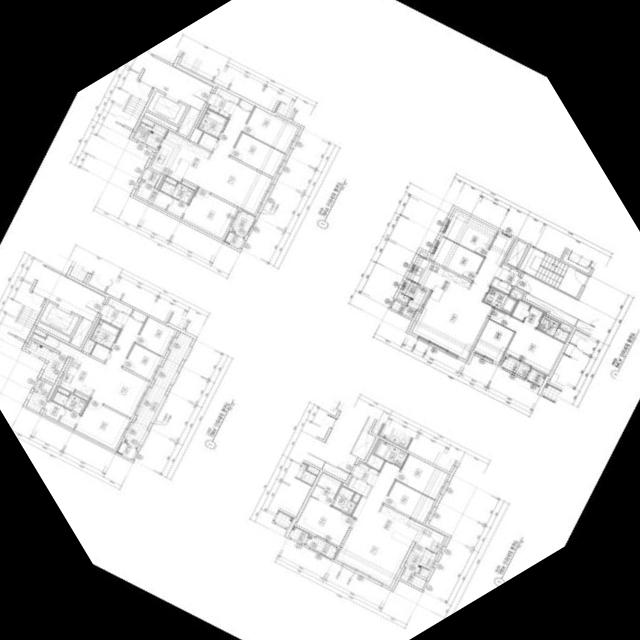background: (0, 0, 640, 640)
space_balconi: (124, 331, 193, 448), (24, 339, 67, 384), (404, 543, 436, 572), (134, 122, 167, 148), (402, 279, 430, 309), (305, 535, 337, 558), (231, 210, 255, 237), (501, 356, 530, 377)
space_bedroom: (489, 307, 564, 374), (74, 398, 130, 449), (296, 496, 353, 546), (182, 188, 237, 238), (243, 106, 298, 153), (443, 210, 497, 256), (396, 453, 448, 499), (230, 132, 284, 176), (431, 236, 483, 280), (384, 480, 434, 523), (135, 316, 175, 355), (123, 343, 161, 379)
space_dressroom: (136, 182, 187, 217), (311, 472, 342, 505), (44, 401, 80, 428), (511, 299, 543, 327)
space_elevator: (39, 301, 79, 335), (147, 90, 187, 124)
space_elevator_hall: (32, 266, 105, 321), (139, 55, 212, 110)
space_front: (99, 303, 129, 328), (206, 92, 236, 117), (351, 461, 379, 485), (494, 263, 519, 285)
space_kitchen: (32, 333, 104, 395), (374, 504, 445, 553), (150, 130, 210, 183), (409, 256, 471, 304)
space_living_room: (411, 231, 513, 358), (336, 460, 413, 586), (194, 104, 272, 214), (88, 315, 149, 417)
space_multipurpose_space: (473, 319, 514, 362)
space_other: (524, 292, 578, 326), (25, 378, 53, 412), (144, 110, 178, 131), (70, 316, 93, 347), (177, 106, 200, 136), (36, 321, 70, 341), (506, 239, 528, 266), (400, 567, 426, 589), (321, 461, 349, 480), (347, 476, 371, 496), (215, 86, 240, 104), (391, 300, 416, 318), (107, 297, 133, 314), (91, 342, 110, 361), (491, 277, 512, 294), (141, 168, 160, 186), (198, 132, 217, 150), (367, 453, 384, 470), (238, 98, 254, 111), (131, 309, 147, 322), (83, 338, 95, 353), (509, 288, 522, 299), (74, 391, 89, 400), (181, 180, 196, 189), (164, 175, 177, 185), (559, 323, 572, 332), (34, 328, 46, 337), (57, 386, 69, 395), (142, 117, 154, 126), (398, 293, 409, 302), (419, 567, 429, 576), (352, 492, 360, 502), (420, 251, 427, 257)
space_outdoor_room: (288, 525, 309, 543), (224, 231, 244, 249), (526, 368, 546, 385)
space_staircase: (519, 246, 587, 297)
space_toilet: (373, 439, 408, 467), (483, 286, 517, 314), (537, 314, 569, 342), (90, 319, 120, 348), (198, 108, 227, 137), (52, 391, 87, 414), (159, 180, 194, 203), (331, 485, 356, 515)
